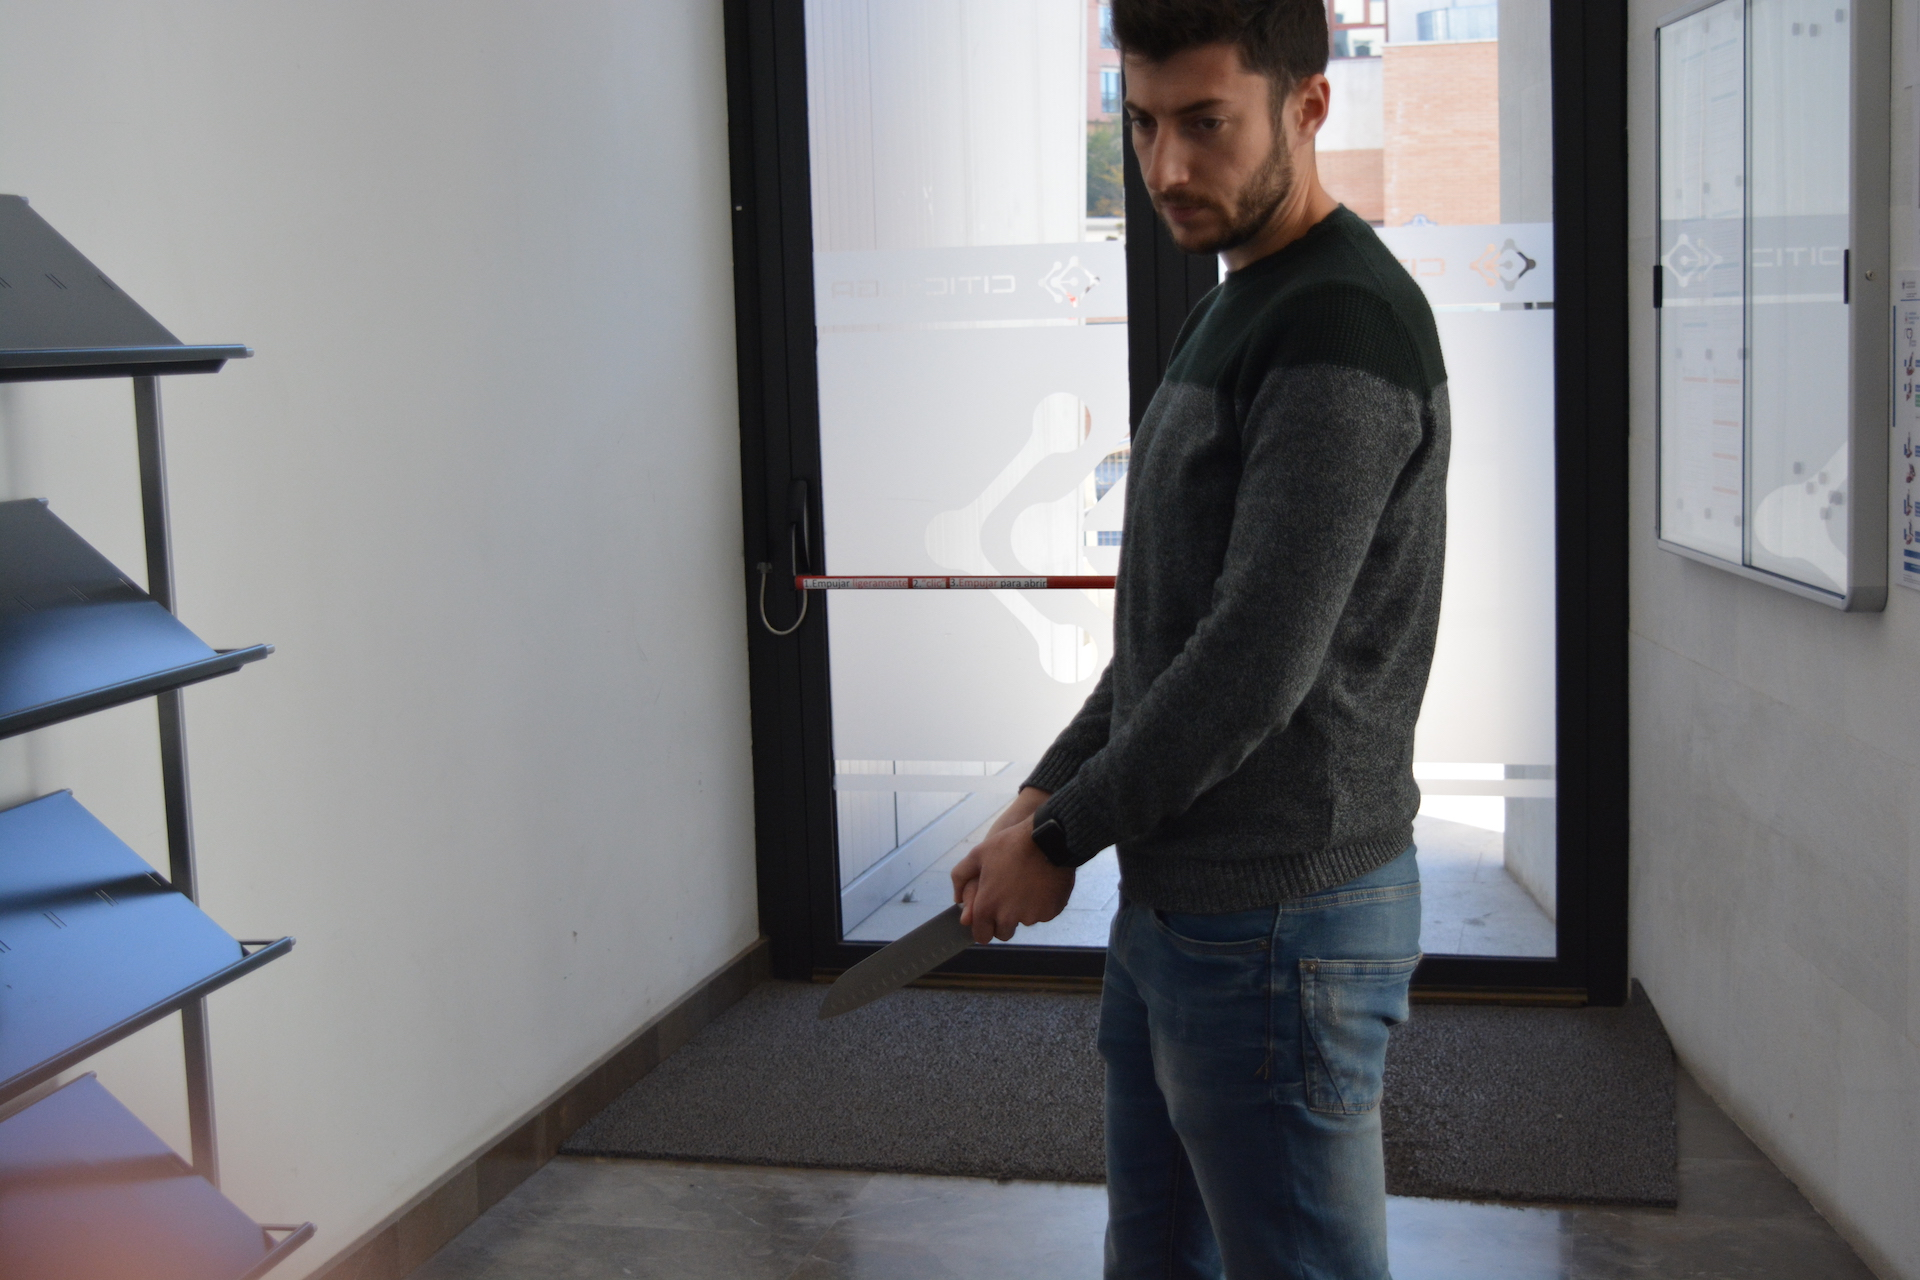knife: (807, 886, 1004, 1027)
